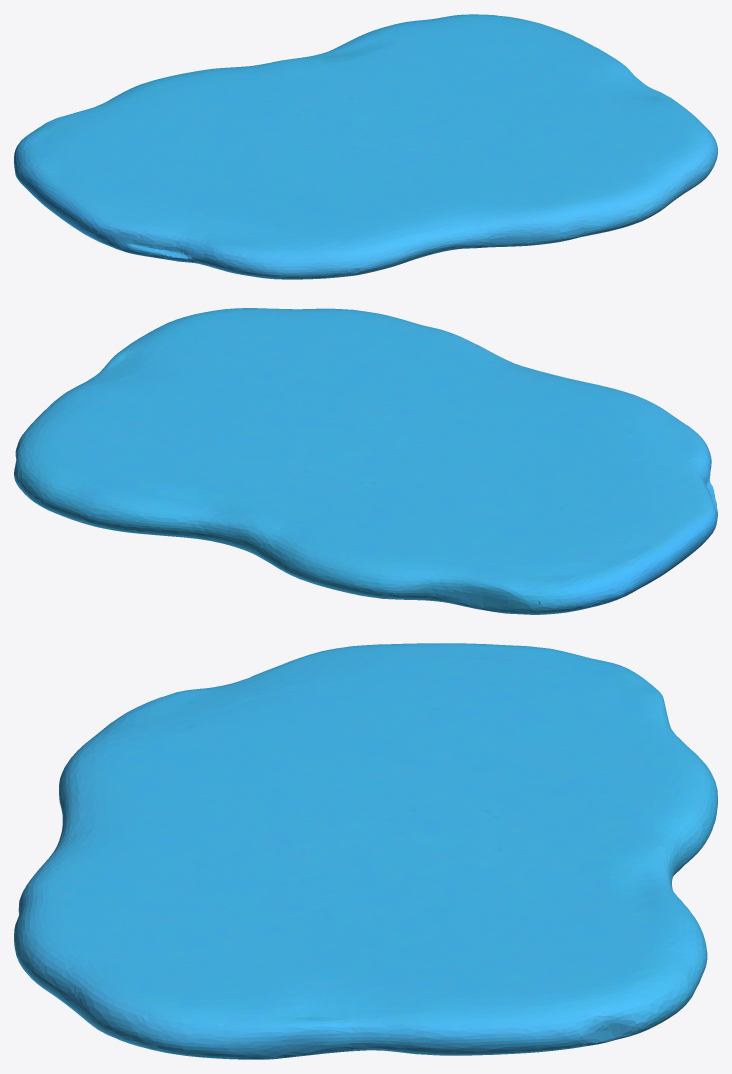
File: a_calm_mass_of_water__0610100518_texture.fbx
3 renders of one model, top to bottom at view 1: azimuth 30°, elevation 25°; view 2: azimuth 150°, elevation 25°; view 3: azimuth 270°, elevation 25°, orthographic. The views are drawn at different scales.
Parts seen in each view (by area): view 1: temp; view 2: temp; view 3: temp.
Boxes of the visible parts, x1,y1,x2,y2 form: temp: [14, 14, 717, 279]; temp: [14, 308, 717, 614]; temp: [14, 643, 717, 1059].
Size of the model in its own units: 200 by 10.63 by 153.
Materials: 1 (1 with a texture image).
